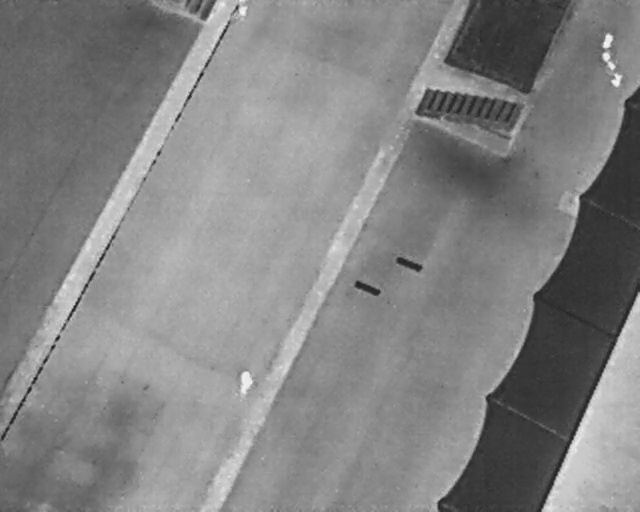Person: (238, 368, 254, 398), (234, 0, 252, 21)
